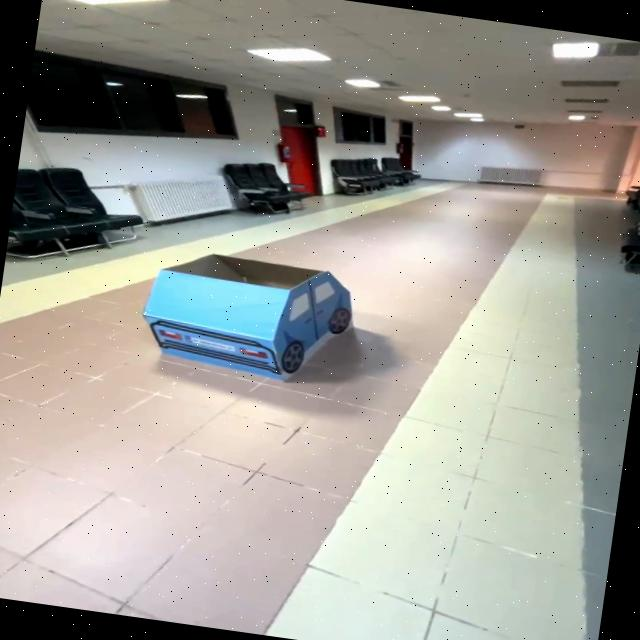blue_car: (115, 226, 404, 424)
